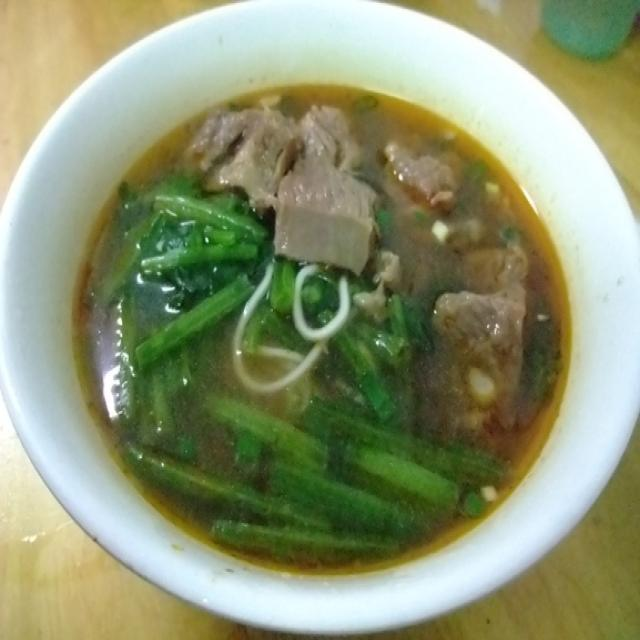面条主食: (28, 28, 606, 597)
